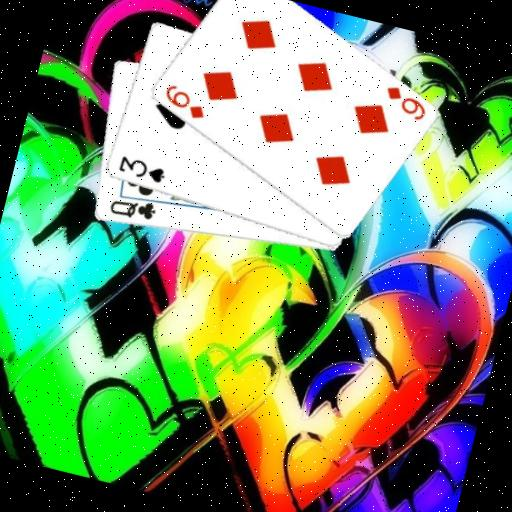3S: (114, 152, 169, 187)
6D: (157, 80, 212, 123), (377, 81, 432, 124)
QC: (105, 190, 160, 226)
